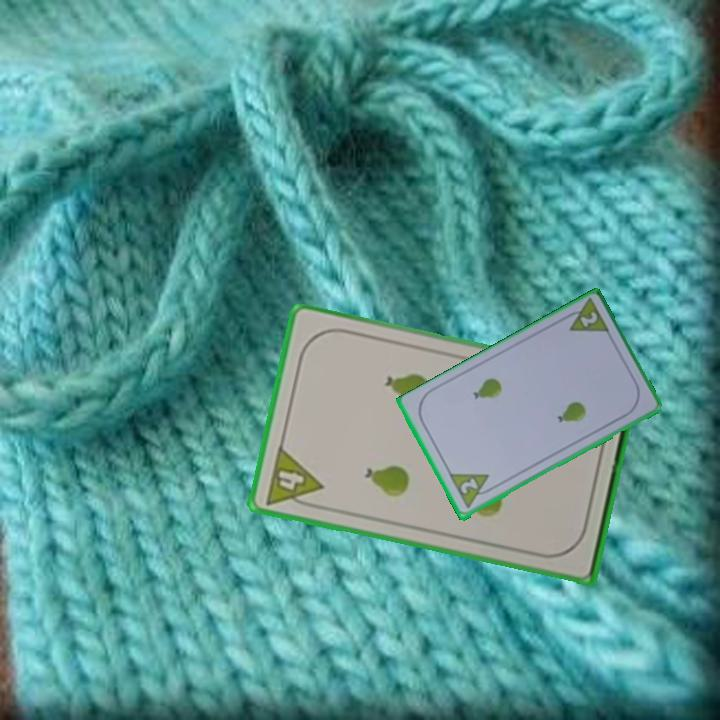2p: (558, 296, 613, 337), (456, 475, 481, 498)
4p: (261, 443, 326, 513)
